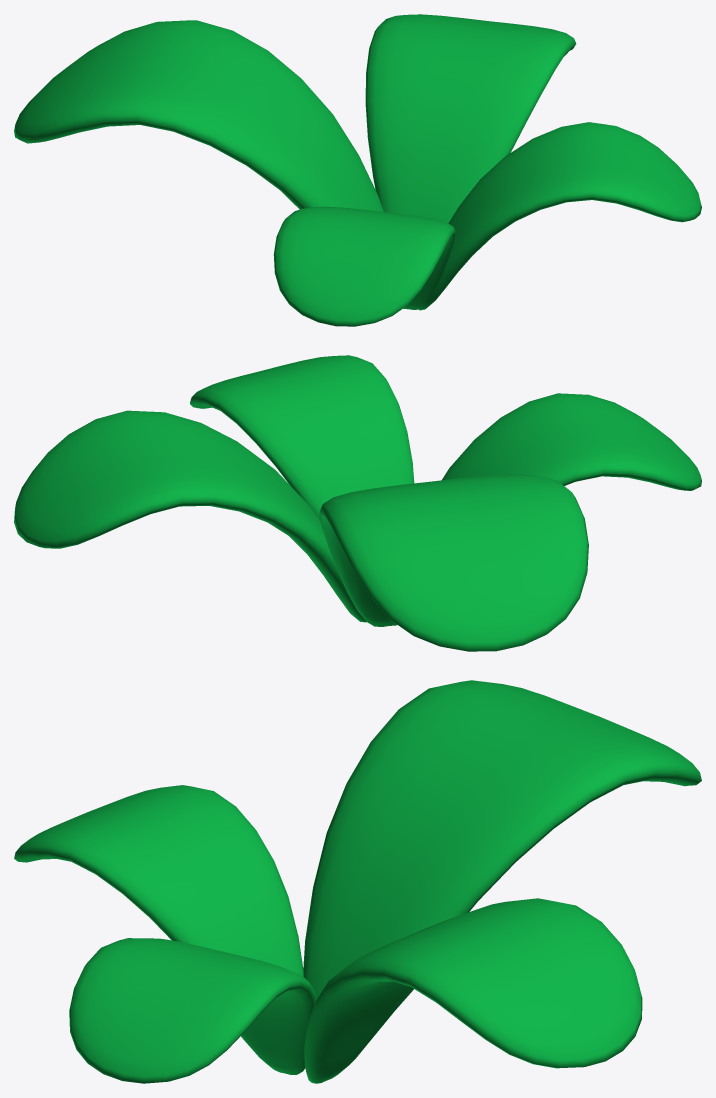
Rendered from City_17_Plant_1.glb.
3 views of the same model, one above another, from view 1: azimuth 30°, elevation 25°; view 2: azimuth 150°, elevation 25°; view 3: azimuth 270°, elevation 25° (orthographic). The views are drawn at different scales.
Parts seen in each view (by area): view 1: City_17_Plant_1; view 2: City_17_Plant_1; view 3: City_17_Plant_1.
Boxes of the visible parts, x1,y1,x2,y2 form: City_17_Plant_1: (14,14,701,326); City_17_Plant_1: (14,355,701,651); City_17_Plant_1: (14,680,701,1083).
Bounding box in the file's own units: 0.4815 × 0.1897 × 0.4532.
Materials: 1 (1 with a texture image).
